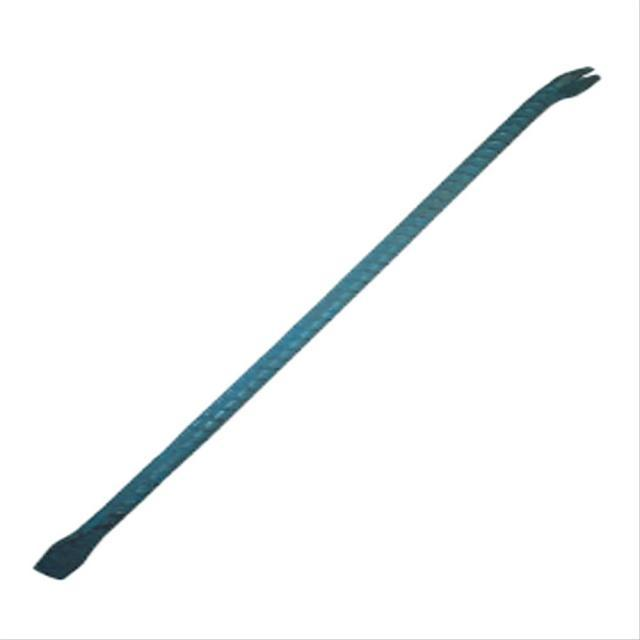Linggis: (20, 48, 605, 593)
